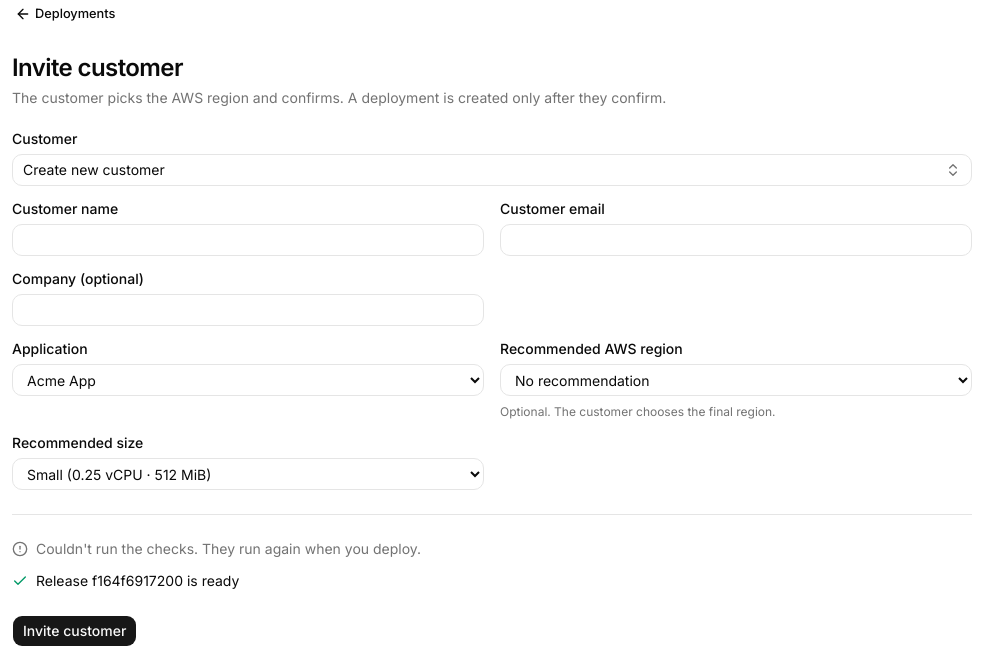
it: create-installation page (invitation-first) › creates a customer then an invitation — and no deployment
Expected: the dropdown with id "customer-picker-trigger" reads "Create new customer", x1=12 y1=154 x2=972 y2=186
Type "New Co" into the field with id "customerName". click: (248, 240)
box: x1=12 y1=224 x2=484 y2=256
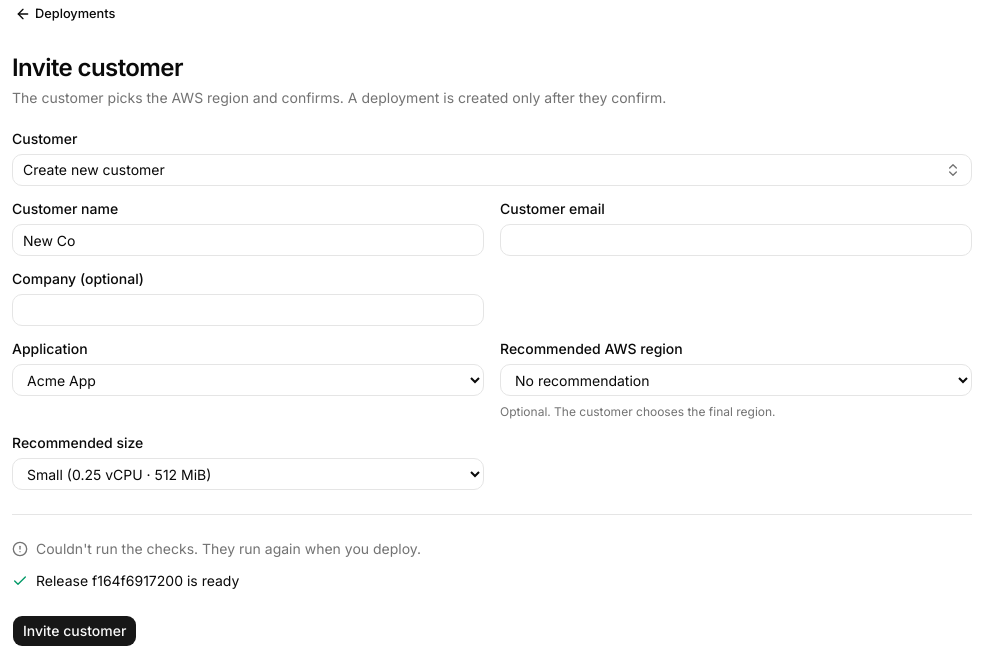
Type "new@example.com" into the field with id "customerEmail". click: (736, 240)
box: x1=500 y1=224 x2=972 y2=256
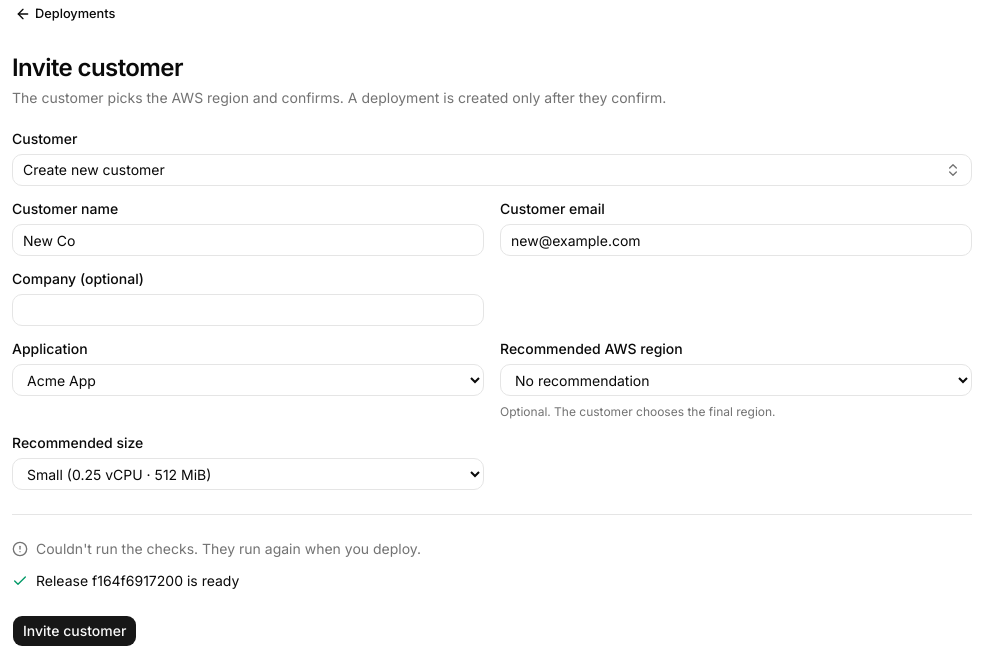
Click the button "Invite customer". click: (75, 631)
box: x1=12 y1=615 x2=137 y2=647
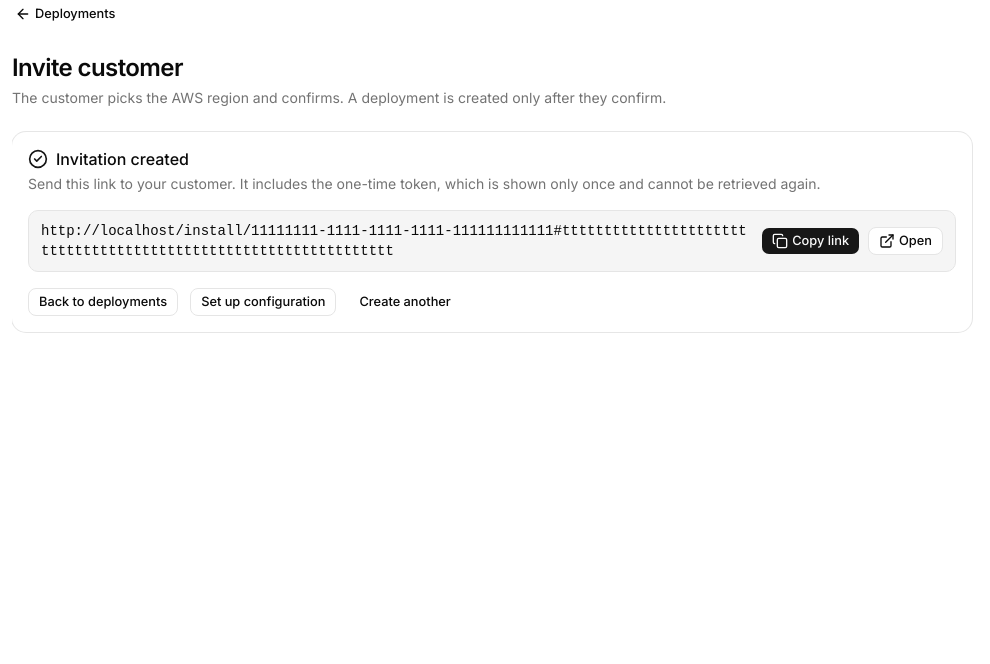
Expected: the text "A deployment is created only after they confirm" is shown, x1=12 y1=89 x2=666 y2=106
Result: the text "Invitation created" is shown at x1=56 y1=148 x2=189 y2=170
